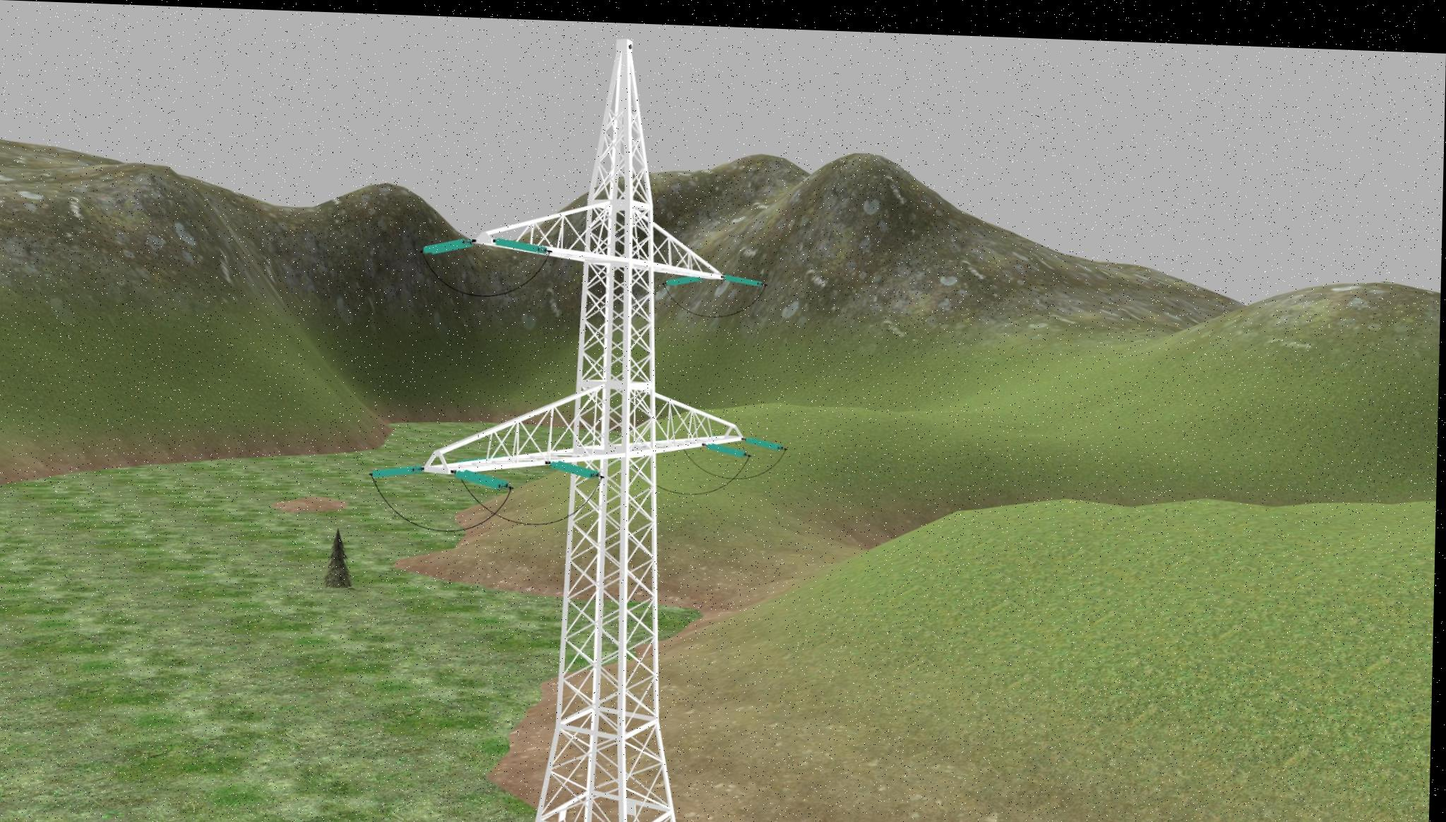tower: (415, 29, 760, 822)
